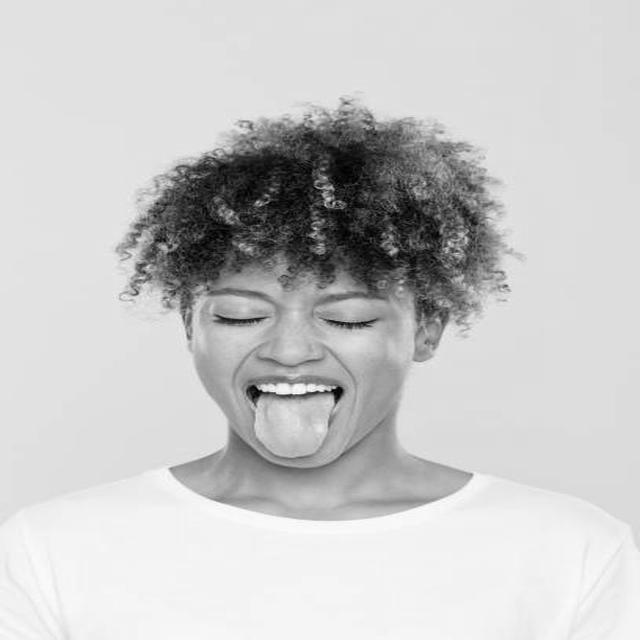Disgust: (187, 250, 416, 471)
